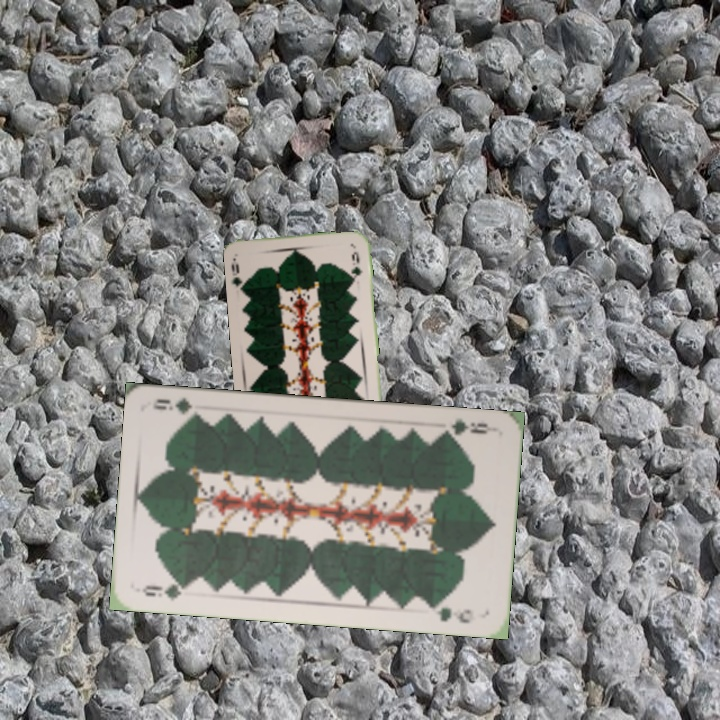G9: (437, 414, 497, 441), (138, 579, 193, 604), (228, 260, 249, 294)
